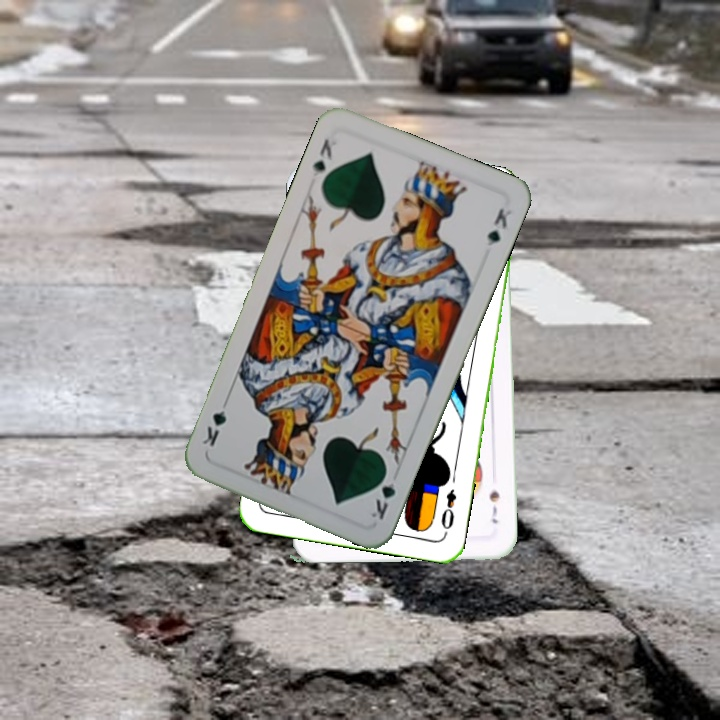EO: (437, 485, 459, 537)
GK: (367, 465, 398, 523), (308, 135, 340, 181)
S7: (485, 487, 502, 526)
